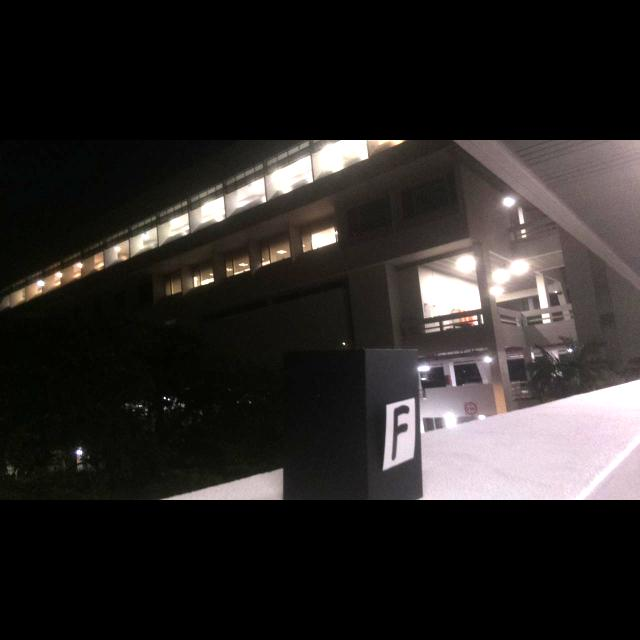F: (391, 405, 409, 461)
